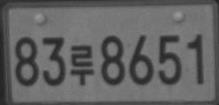1: (185, 33, 209, 84)
3: (42, 36, 66, 86)
5: (157, 33, 183, 85)
6: (128, 34, 154, 85)
8: (99, 34, 125, 85), (14, 35, 39, 87)
루: (69, 44, 94, 86)
